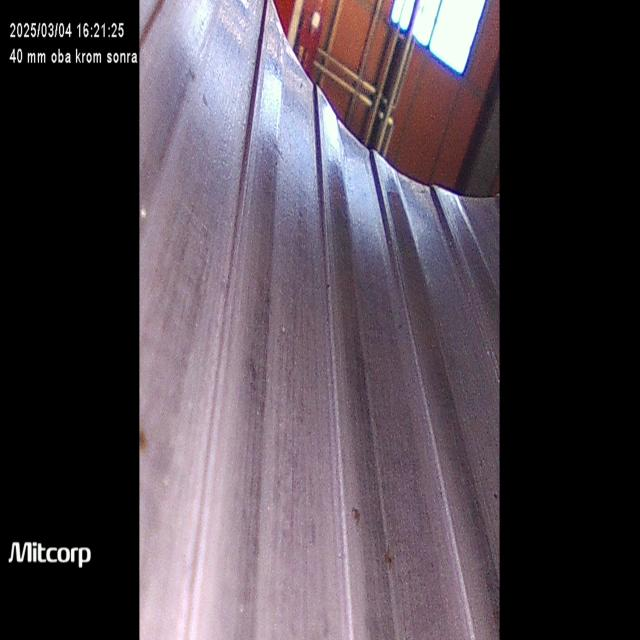hata_4.2: (244, 353, 270, 404), (135, 422, 155, 472), (379, 554, 408, 588), (346, 494, 371, 533), (179, 56, 199, 96), (494, 483, 510, 524), (394, 310, 412, 338), (200, 87, 215, 119), (326, 271, 339, 301), (298, 76, 308, 97), (198, 87, 199, 90)
